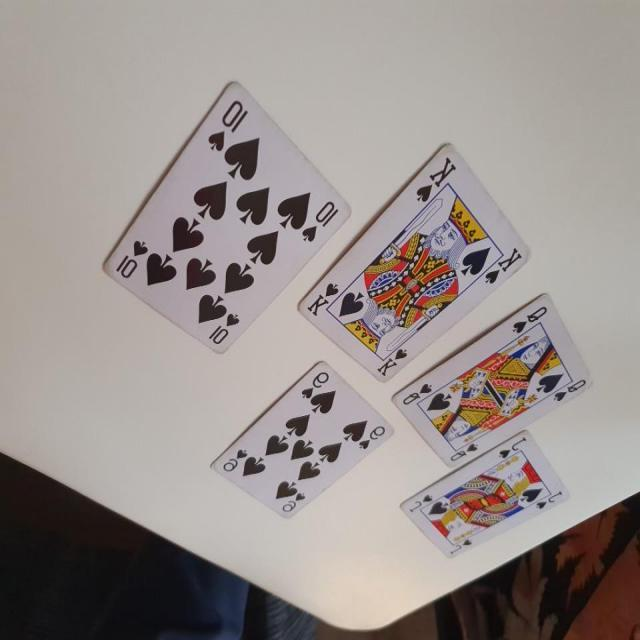10 of spades: (100, 69, 350, 365)
9 of spades: (204, 344, 398, 534)
jack of spades: (396, 426, 574, 566)
king of spades: (293, 137, 532, 394)
queen of spades: (394, 292, 606, 476)
